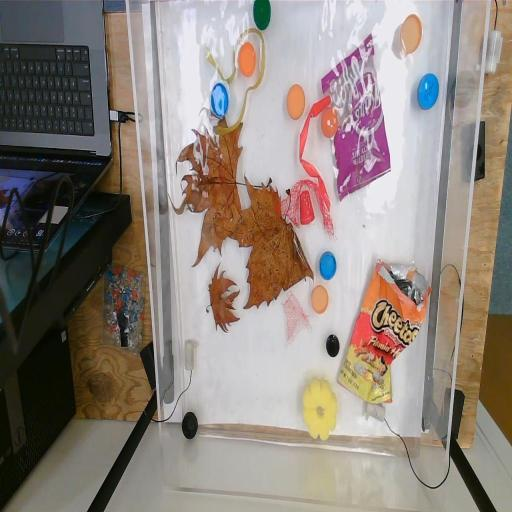Bottle Cap: (400, 12, 422, 56), (417, 72, 439, 110), (286, 82, 306, 120), (210, 82, 230, 118), (238, 42, 257, 76), (254, 0, 272, 30), (311, 284, 329, 314), (320, 252, 338, 280), (322, 107, 338, 137), (182, 414, 198, 438), (326, 333, 340, 357)
Cone Cap: (299, 190, 315, 224)
Leaf: (166, 108, 272, 258), (226, 175, 314, 308), (206, 262, 240, 334)
Netting: (280, 177, 334, 241), (282, 292, 310, 342)
Plastic Bag: (338, 256, 432, 406), (320, 32, 390, 200)
Plastic Strand: (206, 27, 266, 137), (298, 94, 332, 212)
Sponge: (304, 378, 338, 442)
